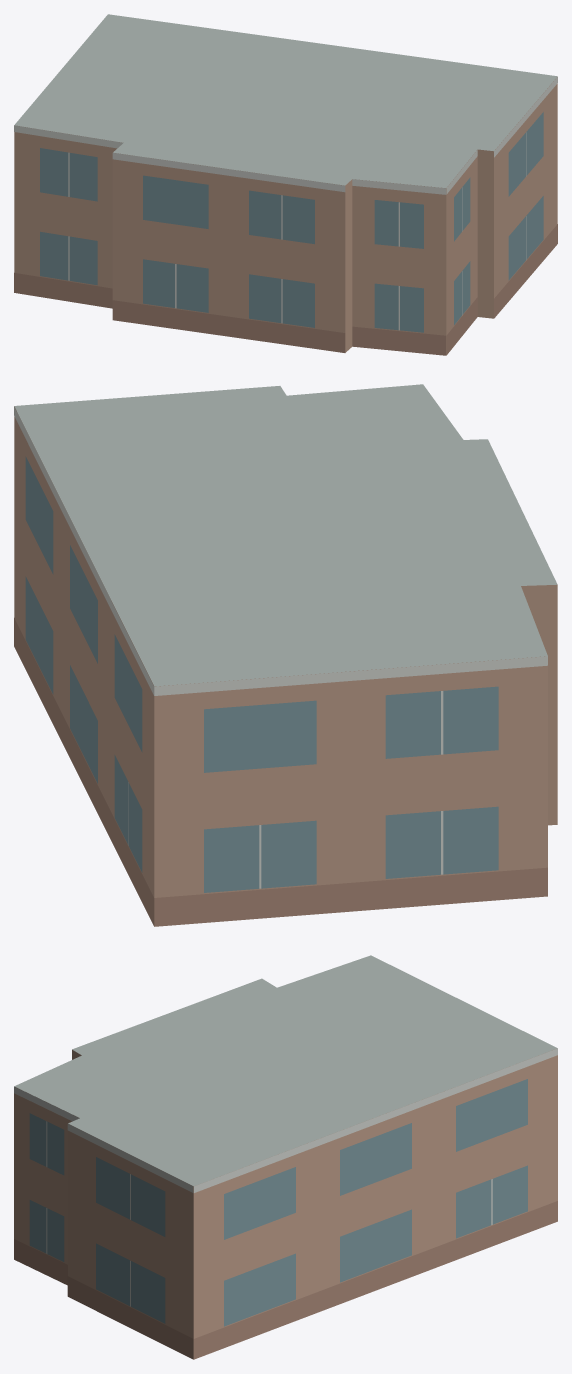
The model's file is survey-upis-32949109.glb.
The picture shows the model from 3 angles, top to bottom: view 1: azimuth 30°, elevation 25°; view 2: azimuth 150°, elevation 25°; view 3: azimuth 270°, elevation 25°; orthographic projection. The views are drawn at different scales.
Parts seen in each view (by area): view 1: survey-upis-32949109.tmp; view 2: survey-upis-32949109.tmp; view 3: survey-upis-32949109.tmp.
Part boxes in pixels (x1,y1,x2,y2): survey-upis-32949109.tmp: [14, 14, 557, 355]; survey-upis-32949109.tmp: [14, 384, 557, 926]; survey-upis-32949109.tmp: [14, 955, 557, 1359].
Bounding box in the file's own units: 17.46 × 6.1 × 17.36.
